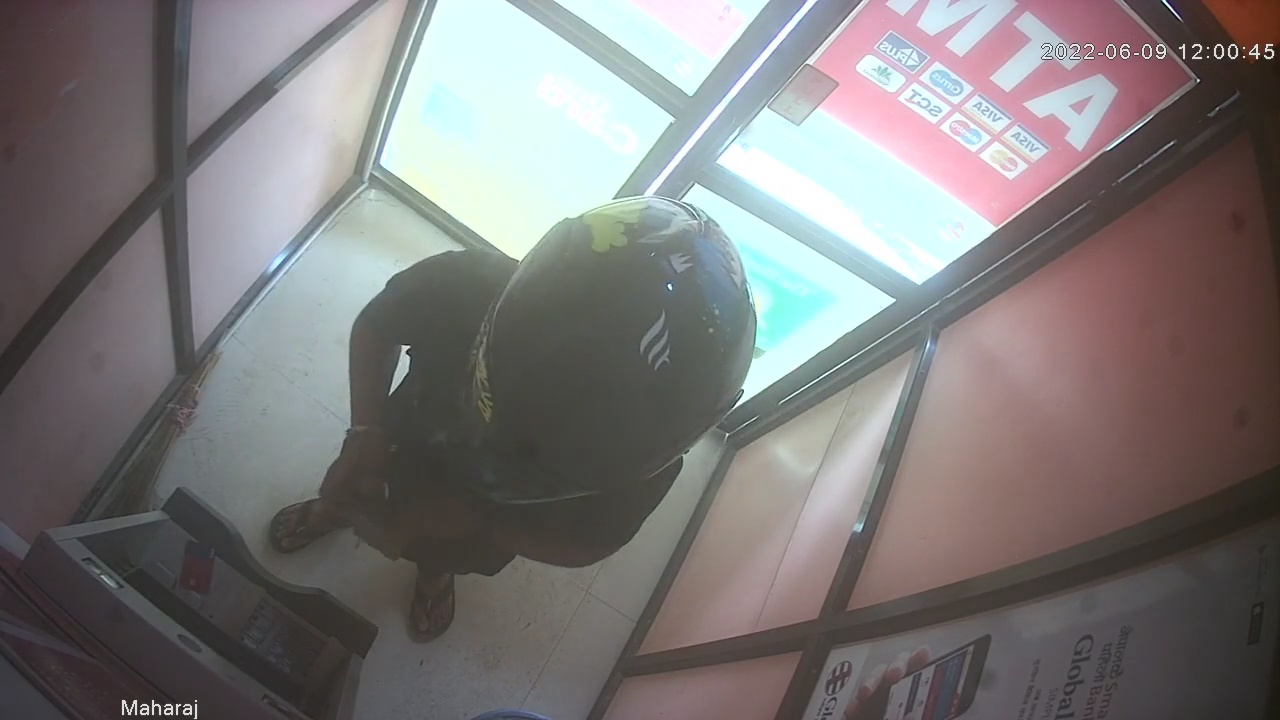helmet: (457, 188, 757, 501)
person: (269, 191, 758, 645)
